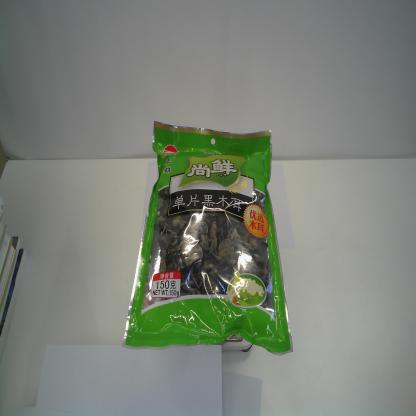Dried Food: (121, 121, 294, 356)
